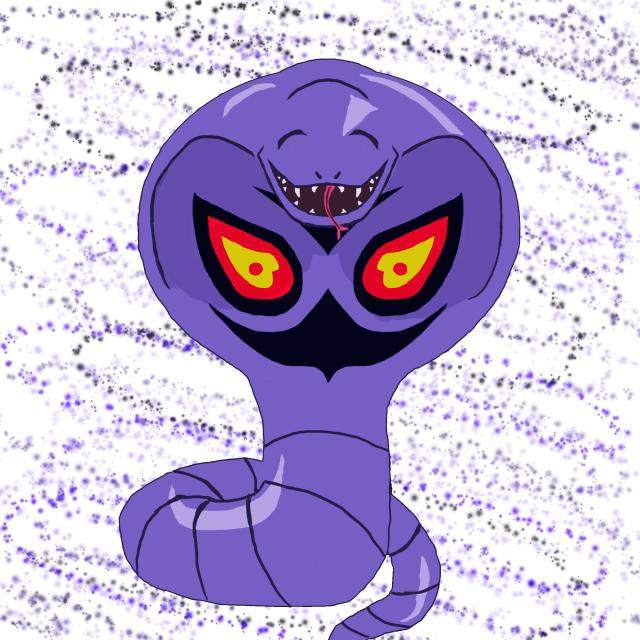Arbok: (108, 57, 514, 540)
